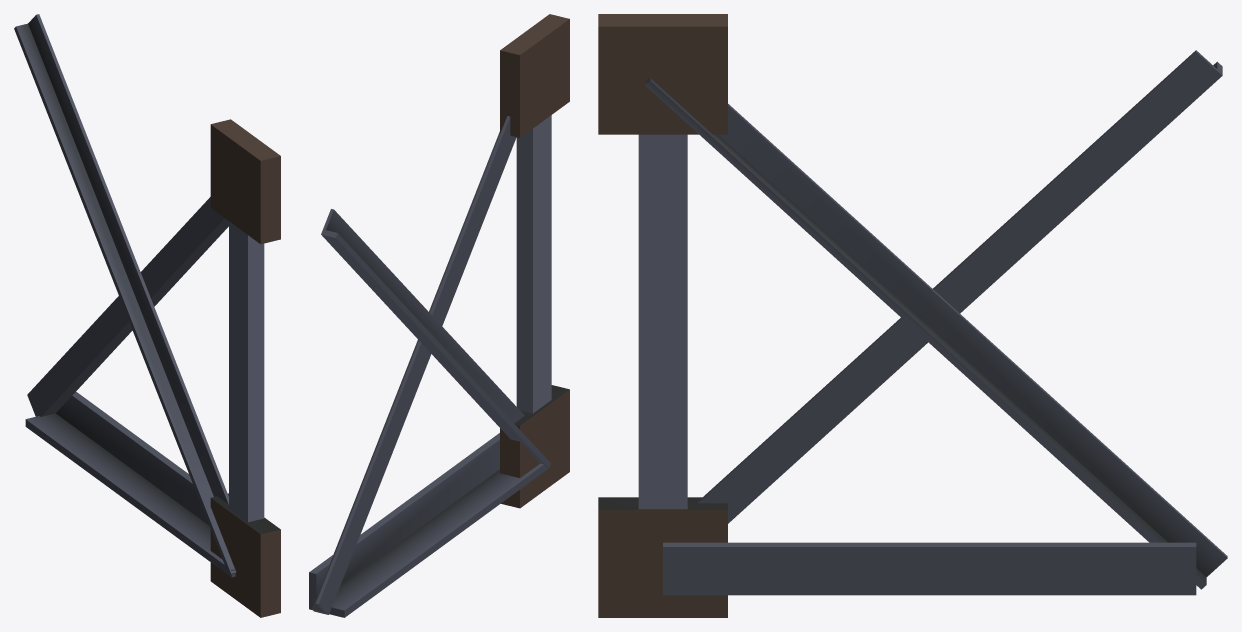
The model's file is girder.fbx.
3 renders of one model, left to right at view 1: azimuth 30°, elevation 25°; view 2: azimuth 150°, elevation 25°; view 3: azimuth 270°, elevation 25°, orthographic. The views are drawn at different scales.
Visible parts, largest first — view 1: Cube.001; view 2: Cube.001; view 3: Cube.001.
Part boxes in pixels (bbox=[...]): Cube.001: bbox=[14, 14, 280, 617]; Cube.001: bbox=[309, 14, 569, 617]; Cube.001: bbox=[598, 14, 1227, 617].
Size of the model in its own units: 104 by 1181 by 1223.
